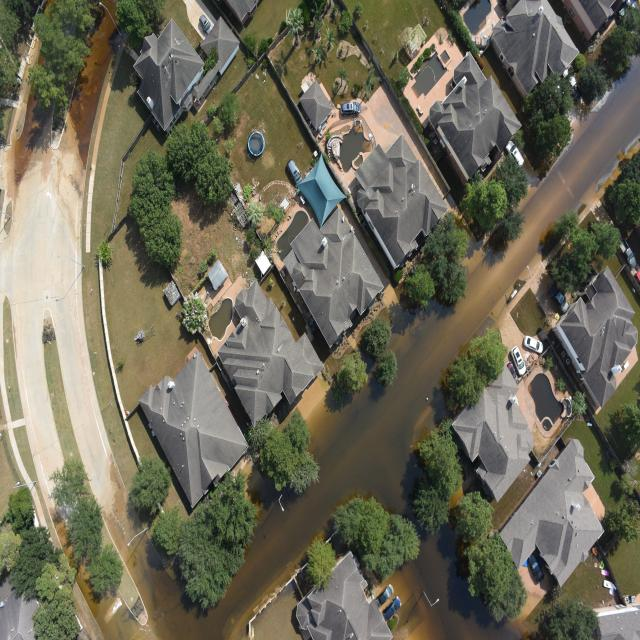fire: (169, 60, 640, 638), (392, 529, 522, 639)
